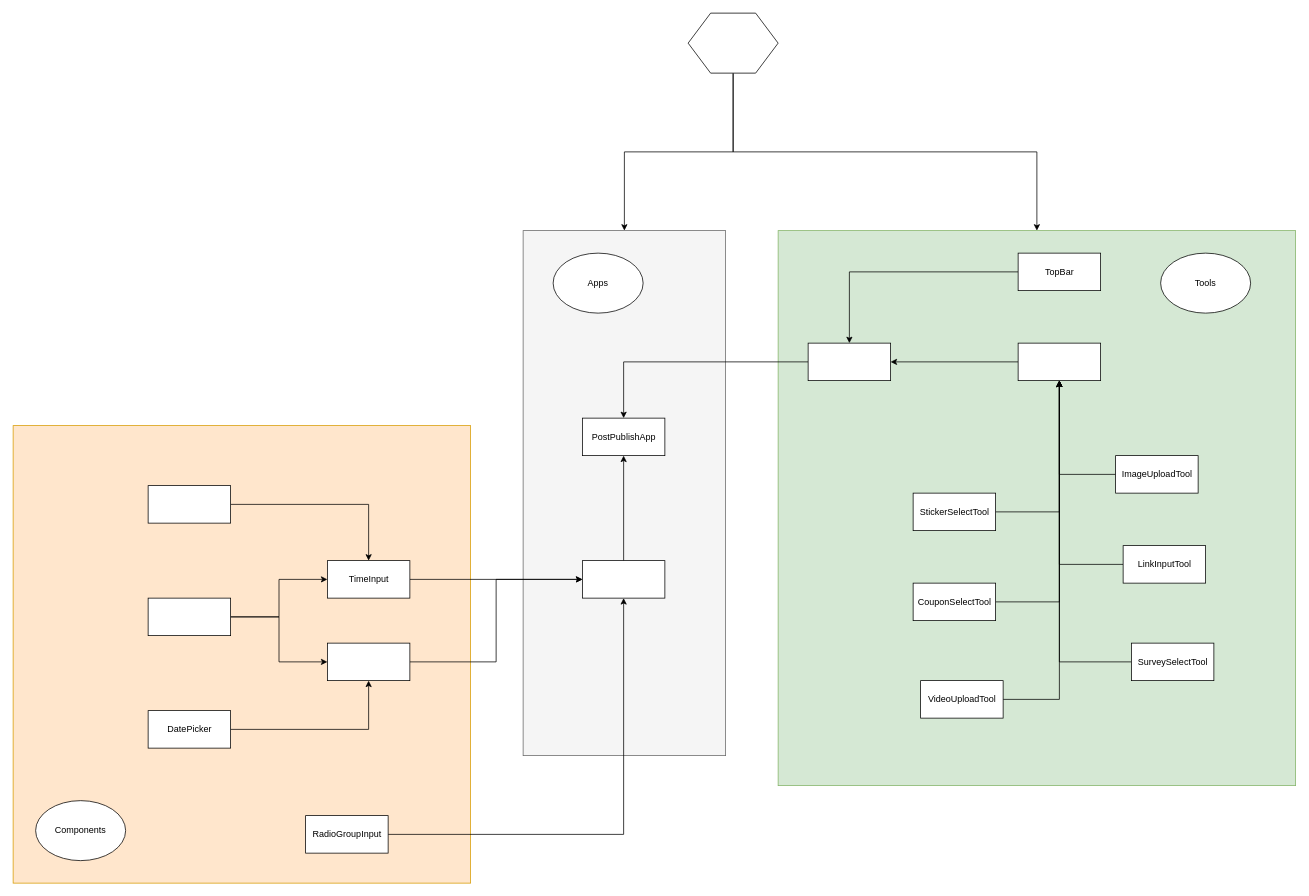
This 1309x896 diagram has some shape labels left out. The box of each missing label's shape, as (x1, y1, x2, y2) in pixels:
API Request: (687, 12, 778, 73)
ContentArea: (1017, 342, 1101, 381)
DateInput: (327, 642, 410, 681)
PostContentEditTool: (807, 342, 891, 381)
PublishScheduler: (582, 560, 665, 598)
TemplateInput: (147, 597, 231, 636)
TimePicker: (147, 485, 231, 523)
